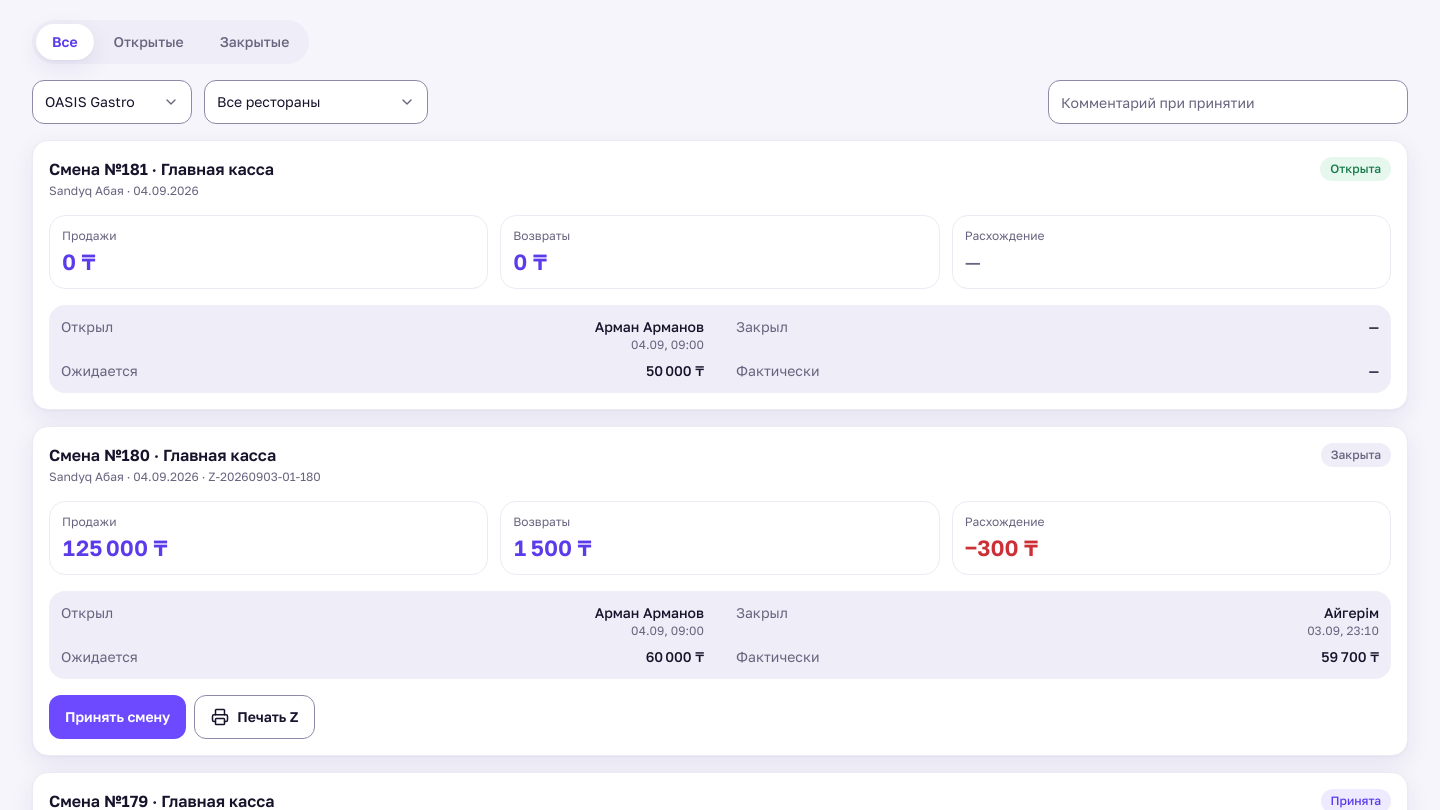
it: «Кассовые смены» (W1-RTL-06) › «Принять смену» opens the finance dialog with the comment and posts acceptShift
The width and height of the screenshot is (1440, 810).
Step 1. Type "Недостача 300, объяснительная" into the field labelled "Комментарий при принятии" → (1228, 102), box 1048,80 -> 1408,124
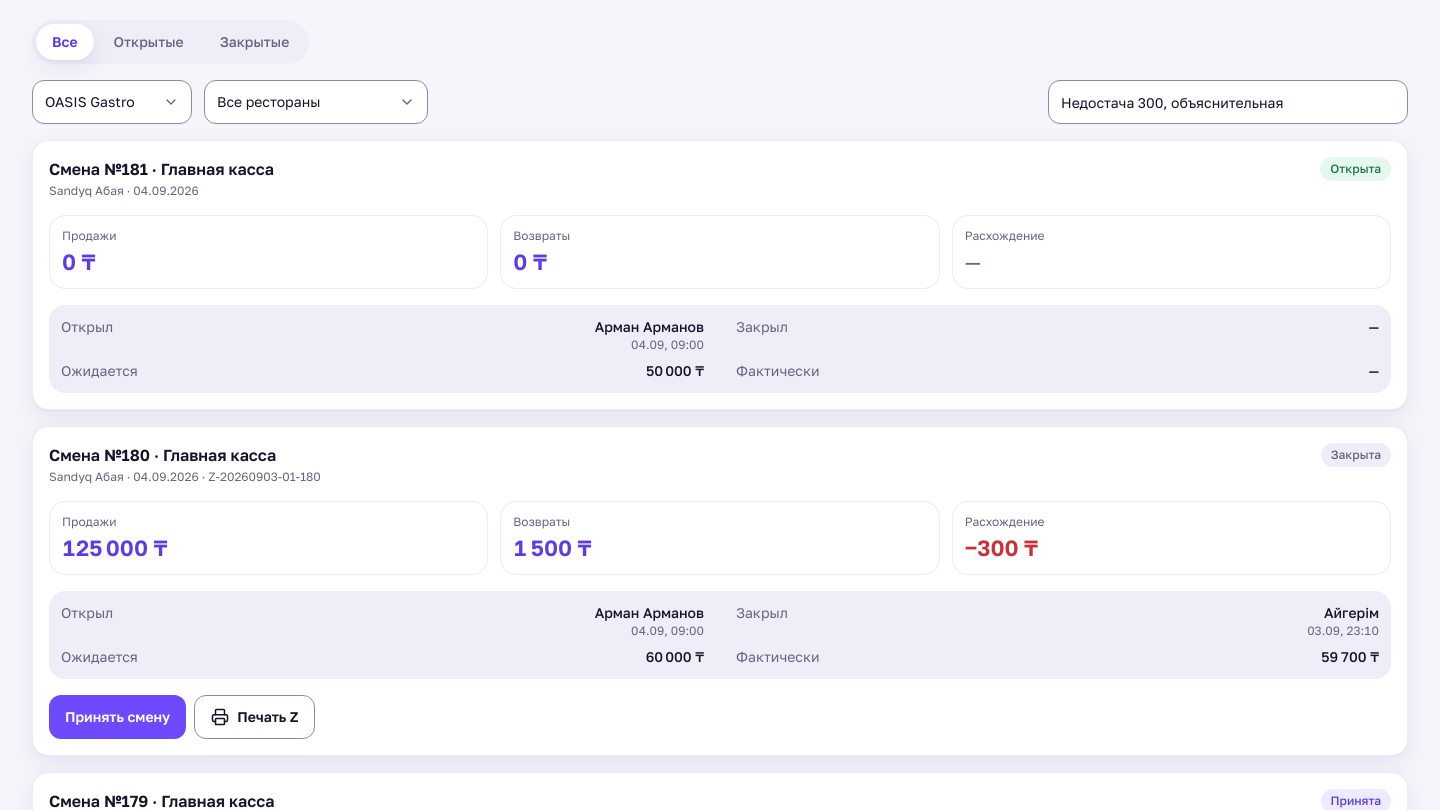
Step 2. Click the button with aria-label "Принять смену №180 · Главная касса" → (118, 717), box 49,695 -> 186,739
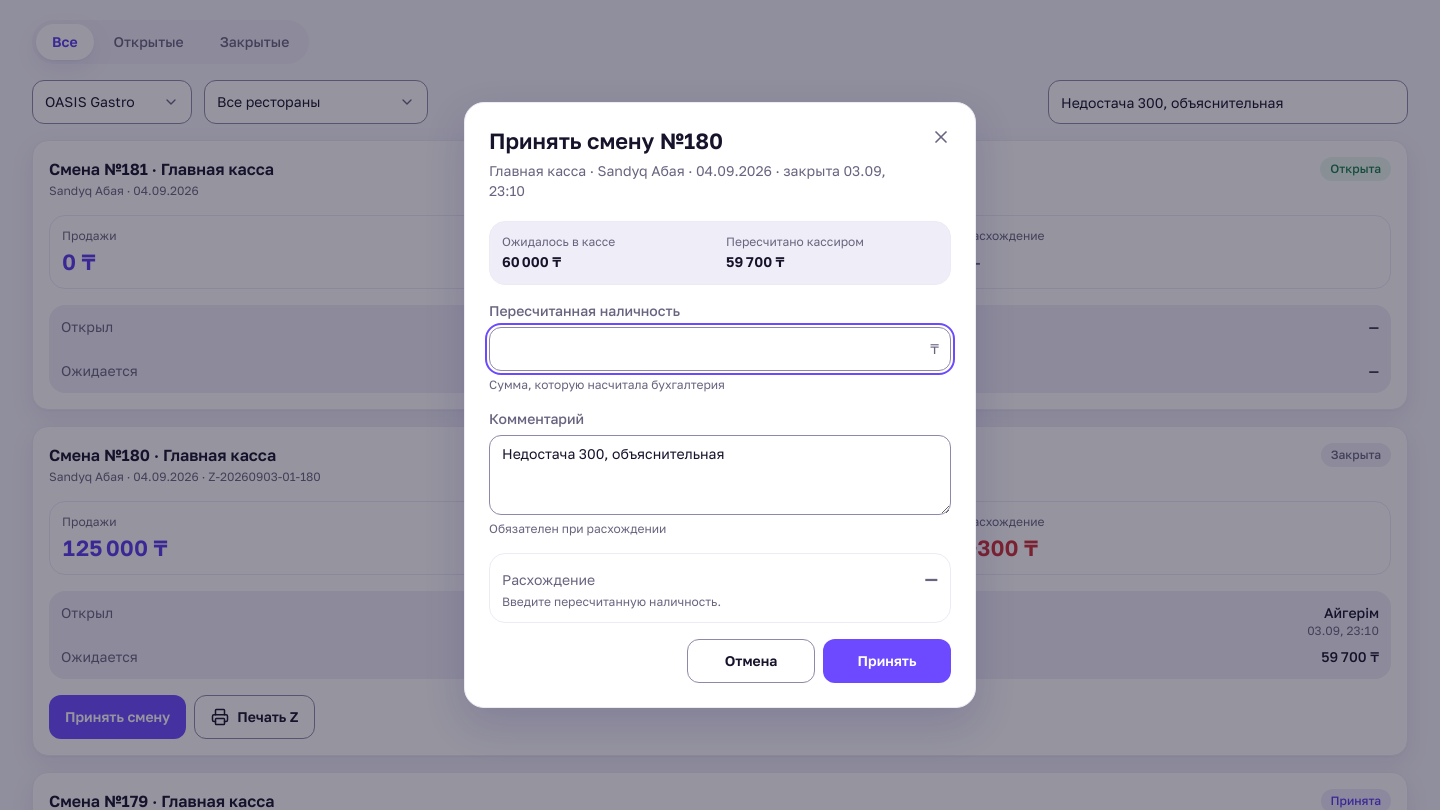
Check: the heading "Принять смену №180" is shown, box 489,127 -> 723,154
Check: the text box labelled "Комментарий" holds "Недостача 300, объяснительная", box 489,435 -> 951,515
Step 3. Type "59700" into the field labelled "Пересчитанная наличность" → (720, 349), box 489,327 -> 951,371
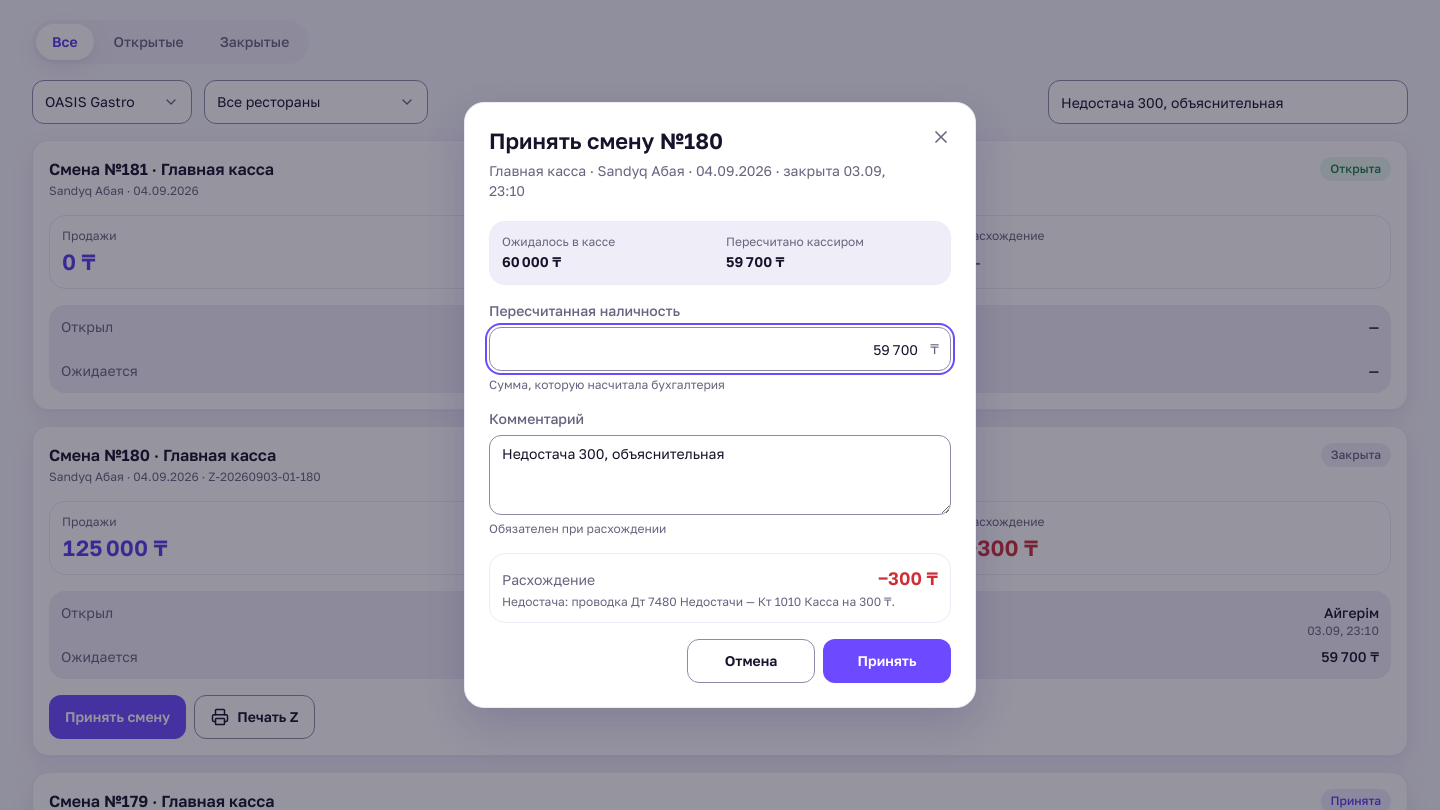
Step 4. Click the button "Принять" → (887, 661), box 823,639 -> 951,683
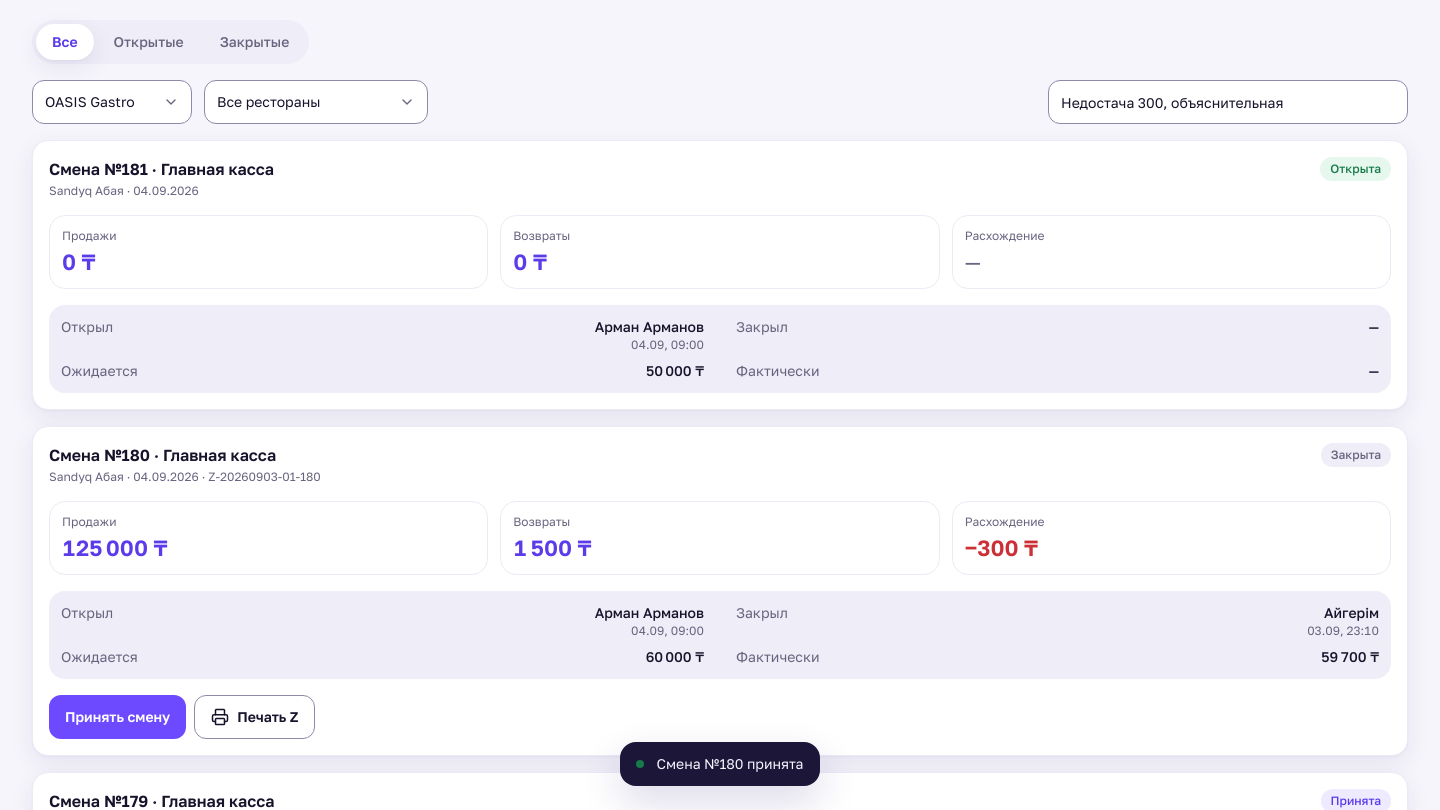
Check: the dialog is gone
